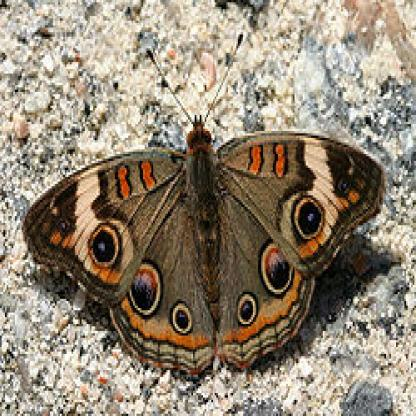Common Buckeye: (1, 1, 416, 415)
